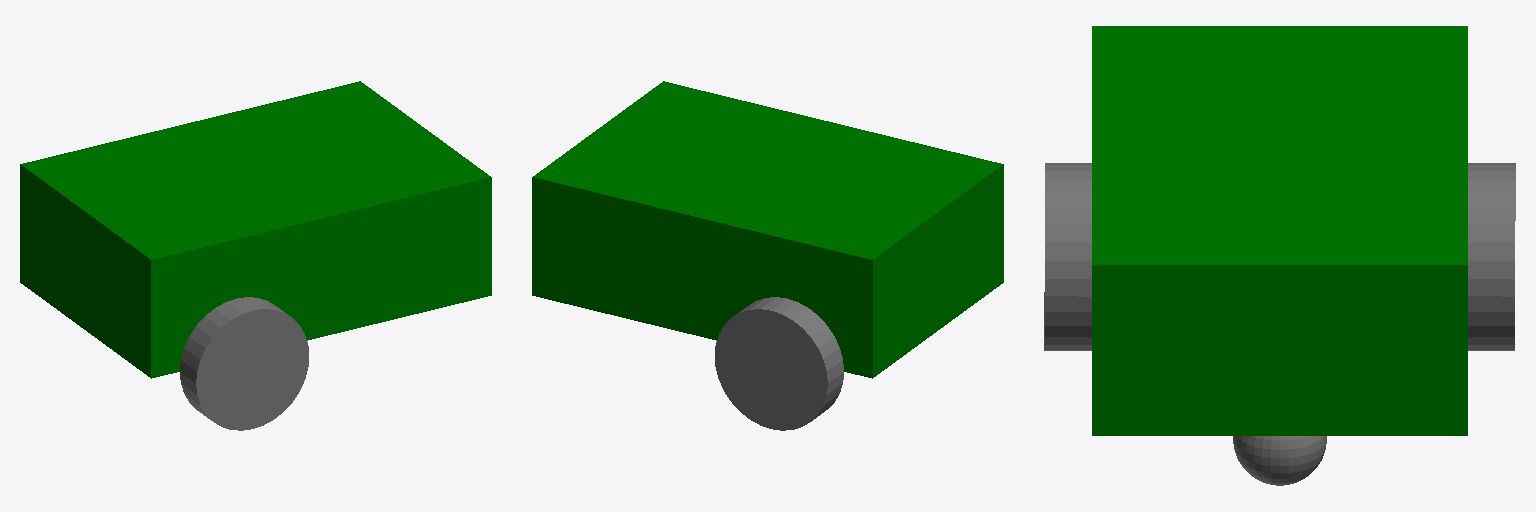
URDF robot description (practice):
<?xml version="1.0"?>
<robot name="practice">
    <material name="grey">
        <color rgba="0.5 0.5 0.5 1"/>
    </material>    
    <material name="red">
        <color rgba="0.5 0 0 1"/>
    </material>
    <material name="green">
        <color rgba="0 0.5 0 1"/>
    </material>
    <material name="blue">
        <color rgba="0 0 0.5 1"/>
    </material>
 
    <link name="base_link">
        <visual>
            <geometry>
                <box size="0.6 0.4 0.2"/>  <!-- xyz -->
            </geometry>
            <origin xyz="0 0 0.1" rpy="0 0 0"/>
            <material name="green"/>
        </visual>
    </link>

    <link name="base_footprint"/>

    <joint name="base_joint" type="continuous">
        <parent link="base_footprint"/>
        <child link="base_link"/>
        <origin xyz="0 0 0.1" rpy="0 0 0"/>
        <axis xyz="0 0 1"/>
    </joint>

    <link name="right_wheel_link">
        <visual>
            <geometry>
                <cylinder radius="0.1" length="0.05"/>
            </geometry>
            <origin xyz="0 0 0" rpy="1.57 0 0"/>
            <material name="grey"/>
        </visual>
    </link>

    <joint name="base_right_wheel_joint" type="continuous">
        <parent link="base_link"/>
        <child link="right_wheel_link"/>
        <origin xyz="-0.15 -0.225 0" rpy="0 0 0"/>
        <axis xyz="0 1 0"/>
    </joint>

    <link name="left_wheel_link">
        <visual>
            <geometry>
                <cylinder radius="0.1" length="0.05"/>
            </geometry>
            <origin xyz="0 0 0" rpy="1.57 0 0"/>
            <material name="grey"/>
        </visual>
    </link>

    <joint name="base_left_wheel_joint" type="continuous">
        <parent link="base_link"/>
        <child link="left_wheel_link"/>
        <origin xyz="-0.15 0.225 0" rpy="0 0 0"/>
        <axis xyz="0 1 0"/>
    </joint>

    <link name="caster_wheel_link">
        <visual>
            <geometry>
                <sphere radius="0.05"/>
            </geometry>
            <origin xyz="0 0 0" rpy="0 0 0"/>
            <material name="grey"/>
        </visual>
    </link>

    <joint name="base_caster_wheel_joint" type="continuous">
        <parent link="base_link"/>
        <child link="caster_wheel_link"/>
        <origin xyz="0.2 0 -0.05" rpy="0 0 0"/>
        <axis xyz="0 1 0"/>
    </joint>
</robot>

--- Render facts (derived) ---
Views: 3 orthographic renders of the robot side by side, from view 1: azimuth 30°, elevation 25°; view 2: azimuth 150°, elevation 25°; view 3: azimuth 270°, elevation 25°.
Robot: practice — 5 links, 4 joints (4 continuous); root link base_footprint; default pose: every joint at zero.
Links seen in each view (by area): view 1: base_link, right_wheel_link; view 2: base_link, left_wheel_link; view 3: base_link, right_wheel_link, left_wheel_link, caster_wheel_link.
Link boxes in pixels (x1,y1,x2,y2): base_link: (20, 81, 491, 378); right_wheel_link: (180, 297, 308, 430); base_link: (532, 81, 1003, 378); left_wheel_link: (715, 297, 843, 430); base_link: (1092, 26, 1467, 435); right_wheel_link: (1044, 163, 1091, 350); left_wheel_link: (1468, 163, 1515, 350); caster_wheel_link: (1233, 436, 1326, 485).
Bounding box of the posed robot: 0.6 × 0.5002 × 0.3 m (x, y, z).
Geometry: primitives only (box / cylinder / sphere), no mesh files.